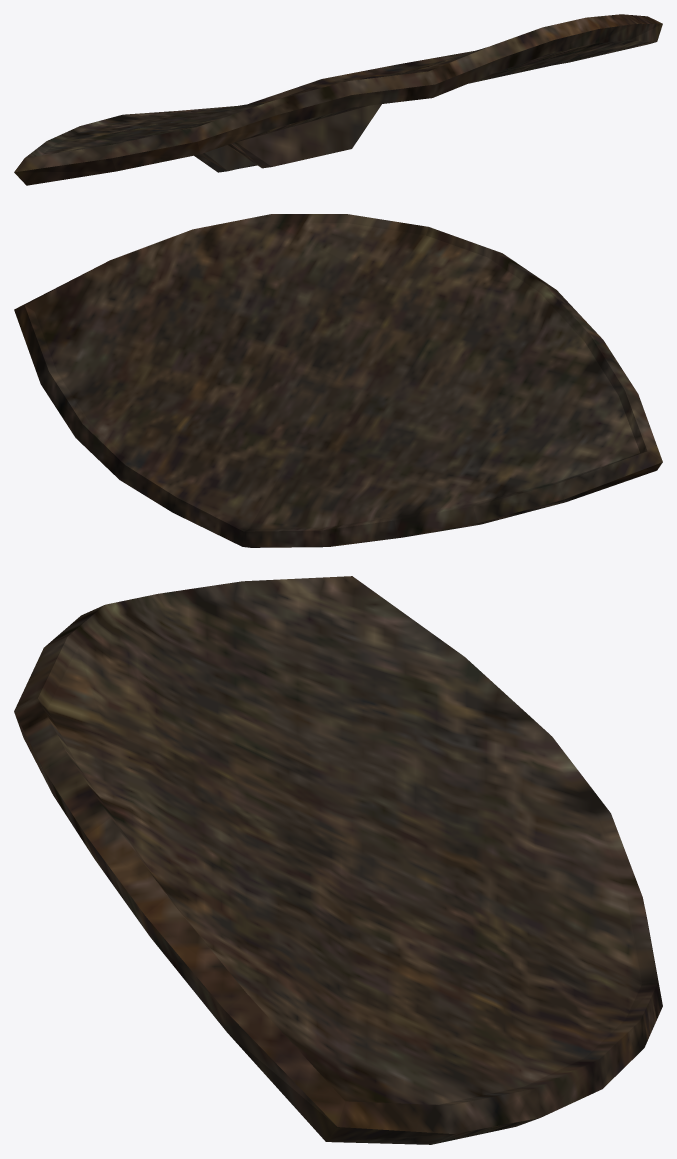
File: tarcza4.glb
3 renders of one model, top to bottom at view 1: azimuth 30°, elevation 25°; view 2: azimuth 150°, elevation 25°; view 3: azimuth 270°, elevation 25°, orthographic. The views are drawn at different scales.
Visible parts, largest first — view 1: zengin; view 2: zengin; view 3: zengin.
Part boxes in pixels (x1,y1,x2,y2): zengin: (14, 14, 662, 185); zengin: (14, 214, 662, 547); zengin: (14, 576, 662, 1144).
Size of the model in its own units: 0.8508 by 0.2407 by 0.438.
Materials: 1 (1 with a texture image).
